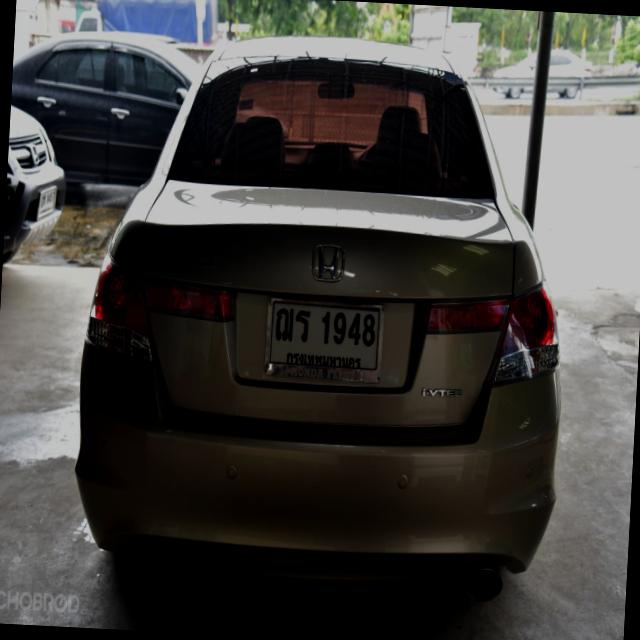license_plate: (264, 294, 387, 385), (36, 181, 60, 222)
